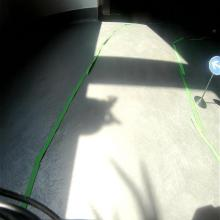left: (208, 56, 220, 74)
